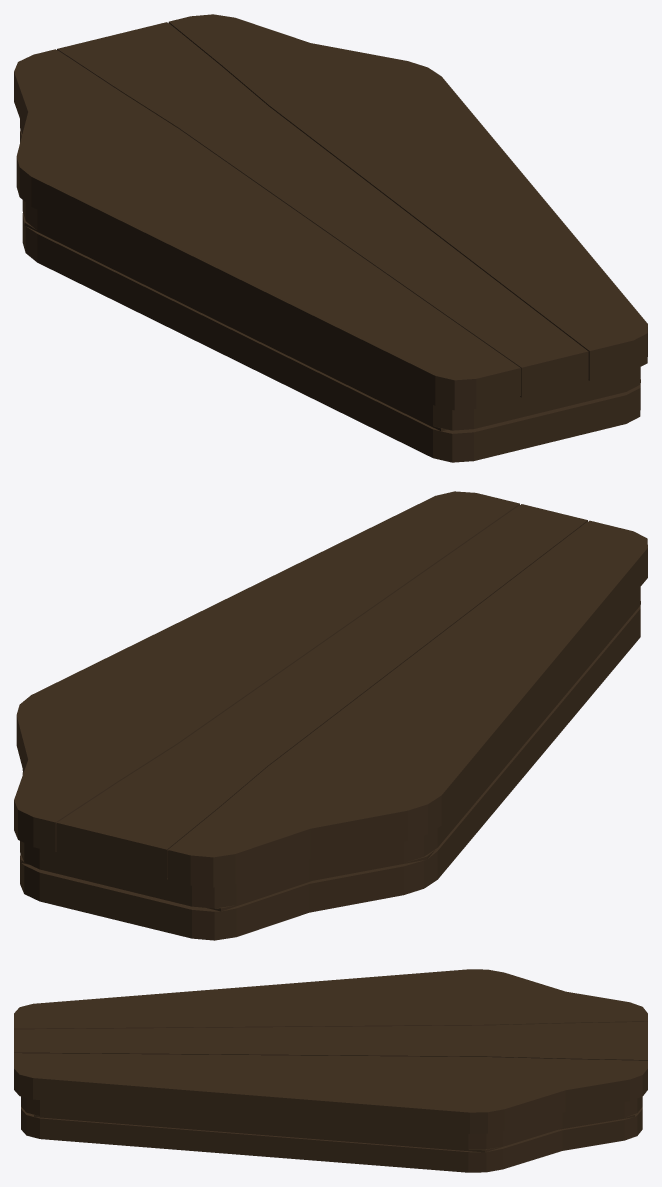
File: Capstone_Coffen2_Rebecca.fbx
3 views of the same model, one above another, from view 1: azimuth 30°, elevation 25°; view 2: azimuth 150°, elevation 25°; view 3: azimuth 270°, elevation 25° (orthographic). The views are drawn at different scales.
Parts seen in each view (by area): view 1: Cube.003; view 2: Cube.003; view 3: Cube.003.
Boxes of the visible parts, x1=… form: Cube.003: x1=14, y1=14, x2=647, y2=462; Cube.003: x1=14, y1=491, x2=647, y2=940; Cube.003: x1=14, y1=969, x2=647, y2=1172.
Bounding box in the file's own units: 58.04 × 11.68 × 108.
